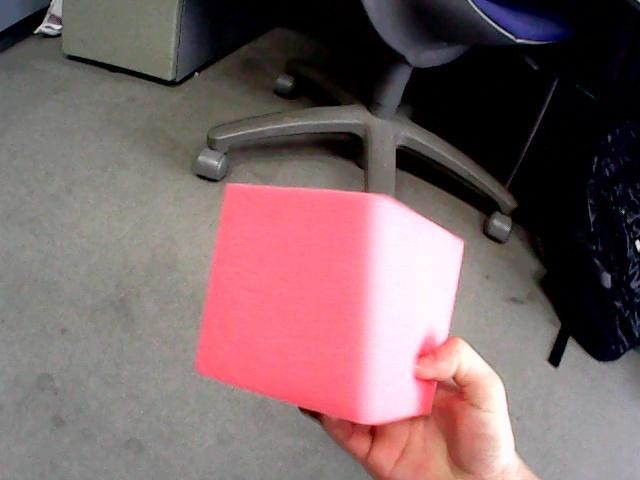red_block: (196, 185, 462, 424)
